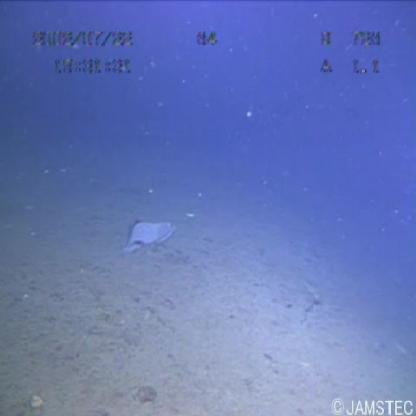Rác: (118, 212, 191, 257)
